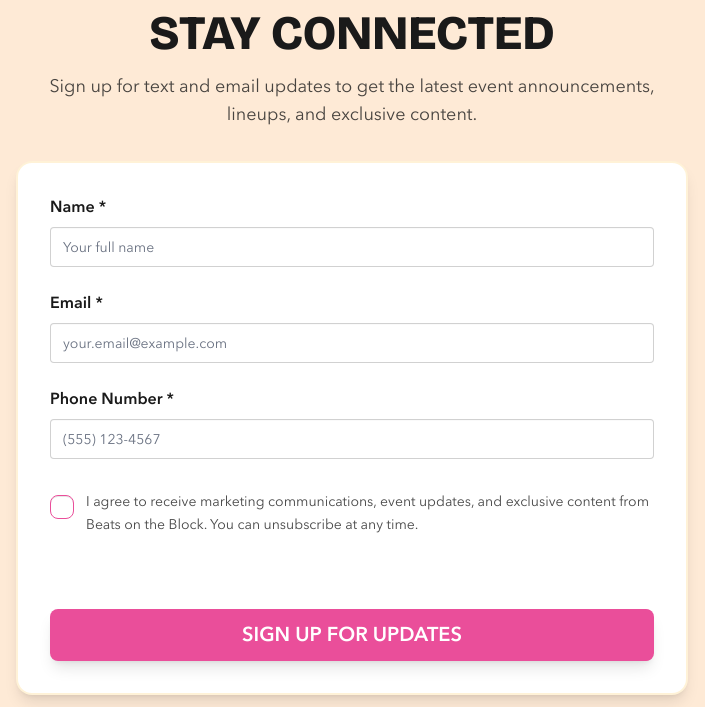
Scenario: submitting state › shows SIGNING UP... while request is in flight
This screenshot has width=705, height=707.
Type "Jane" into the field with placeholder "Your full name" at x=352, y=247, box [50,227,654,267]
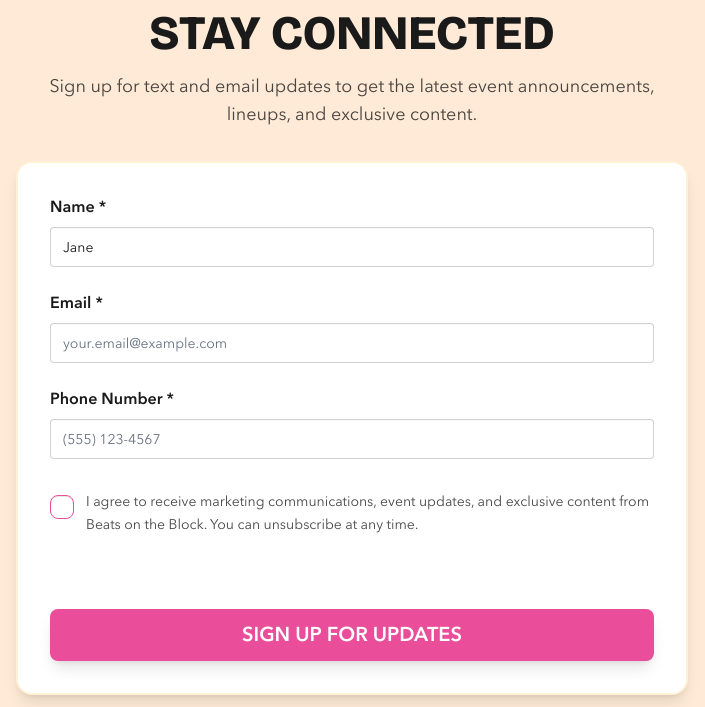
Type "jane@example.com" into the field with placeholder "your.email@example.com" at x=352, y=343, box [50,323,654,363]
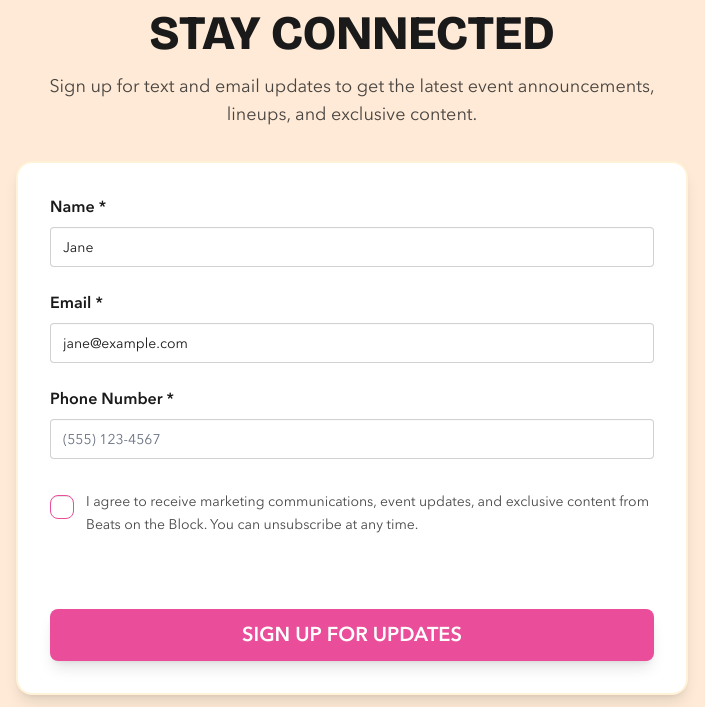
Type "5550001234" into the field with placeholder "(555) 123-4567" at x=352, y=439, box [50,419,654,459]
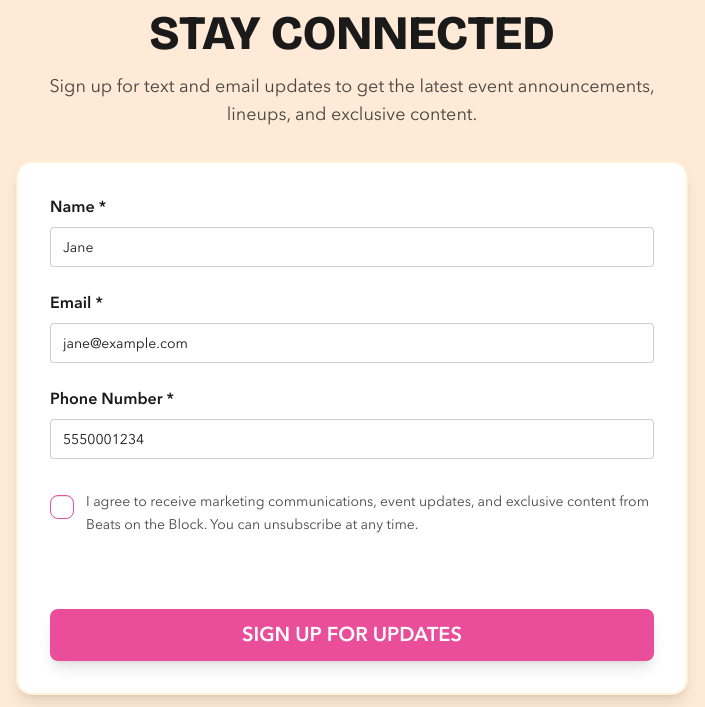
Submit the form named "sign up for updates"
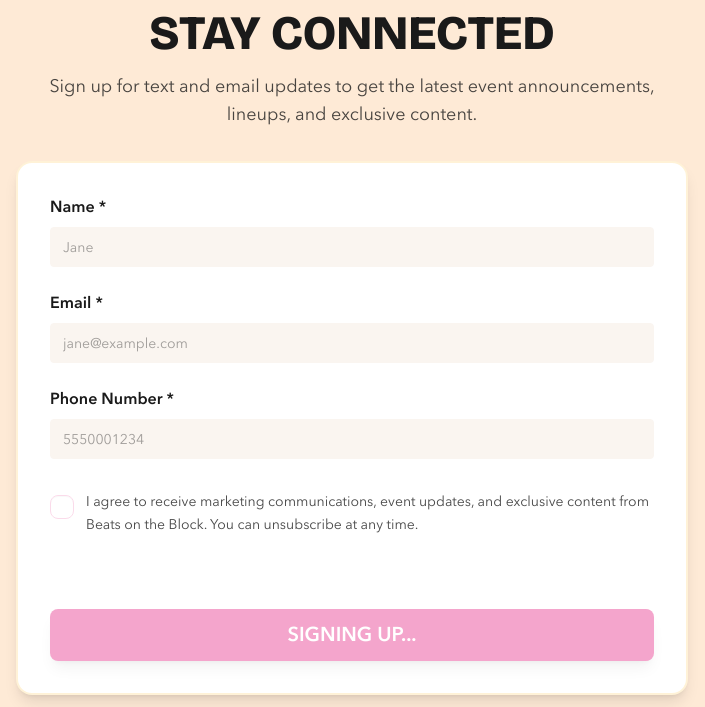
Now the button "SIGNING UP..." is shown, box [50,608,654,660]
